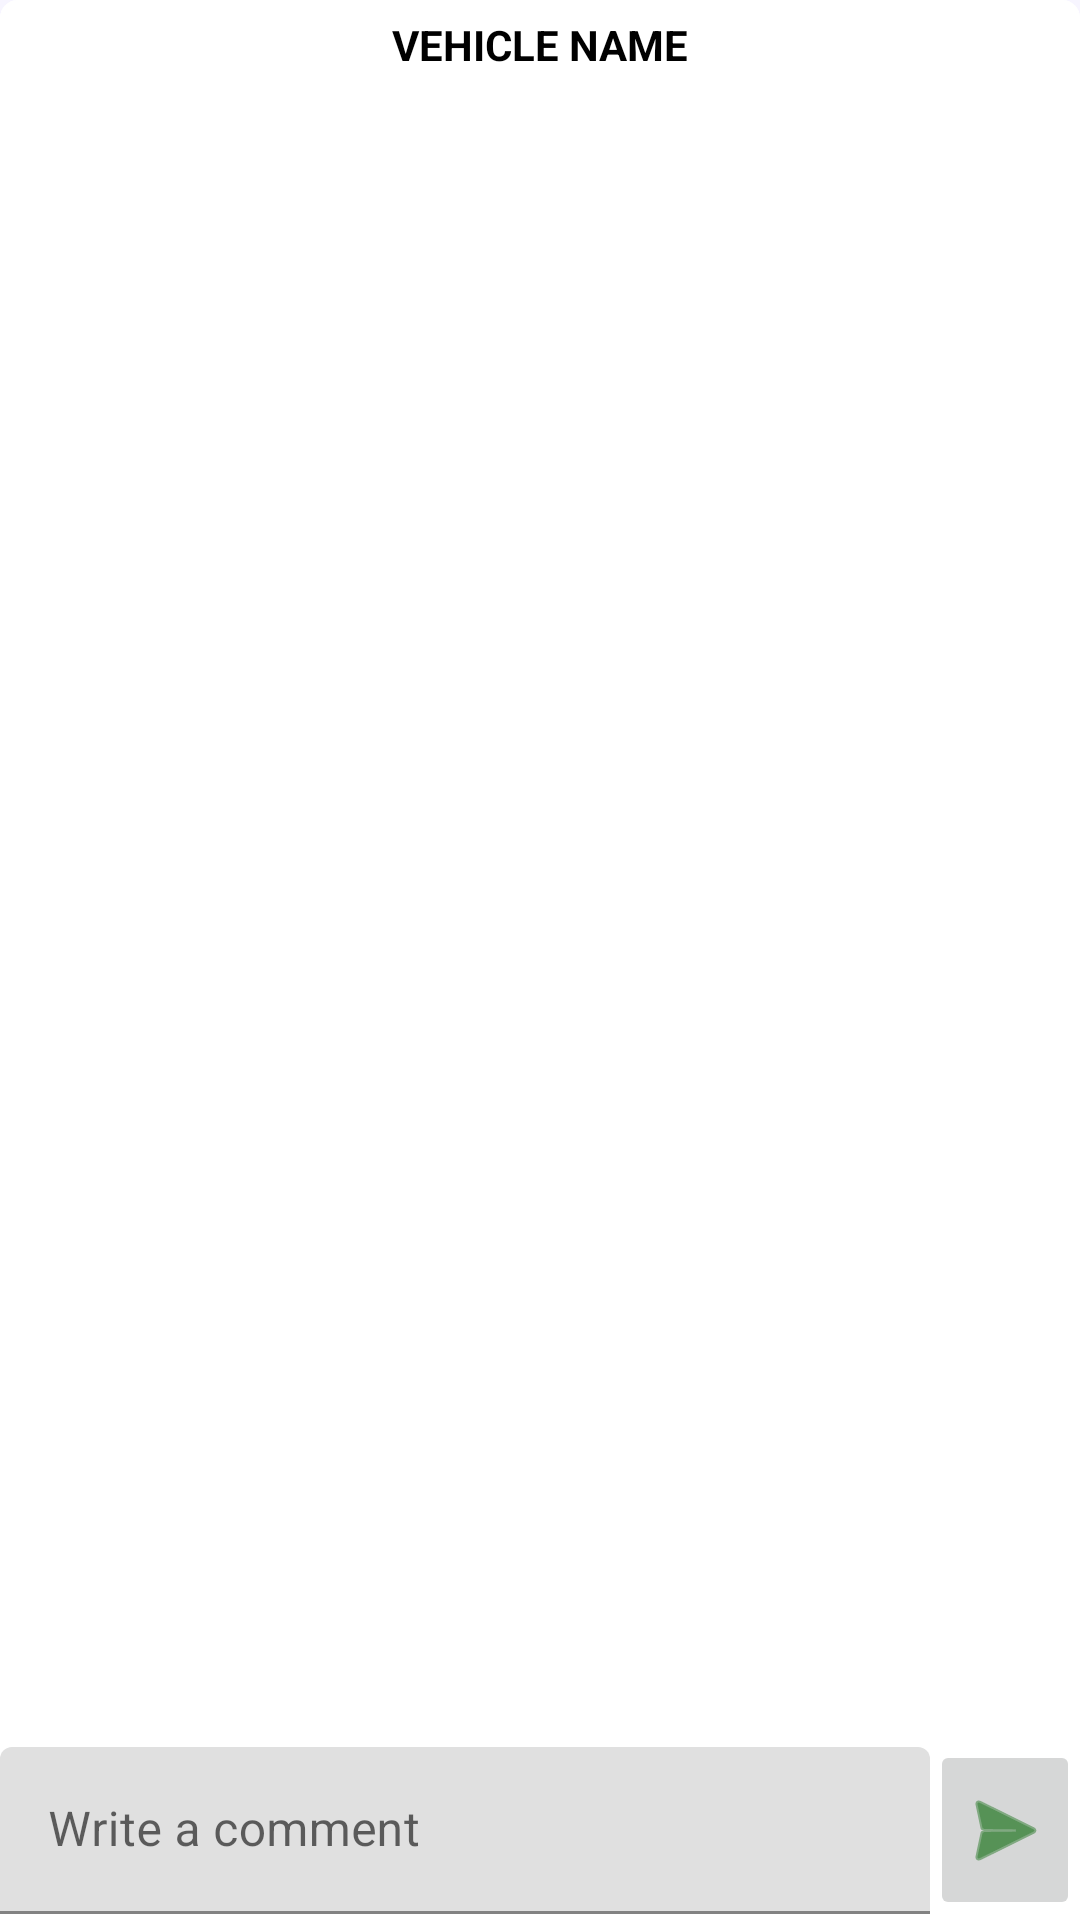

Screen size 1080 x 1920. Icon name, then its box in pixels as (left=x1, top=y1, right=x2, bottom=y2):
send: (left=942, top=1758, right=1068, bottom=1902)
